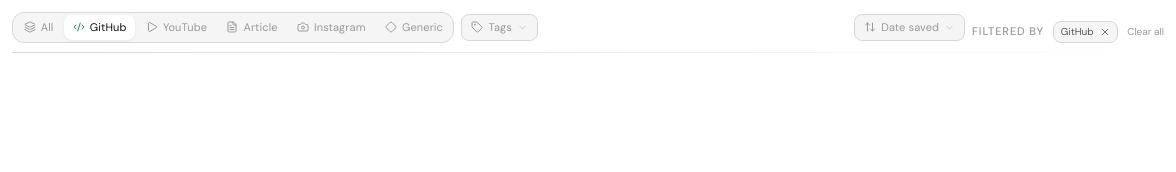
FilterBar › ActiveFilters › removes source filter via chip
What coordinates should you click on to do the following:
click the button named "Remove GitHub filter"
I would click on:
 (1105, 32)
Its box is [1099,25,1112,39].
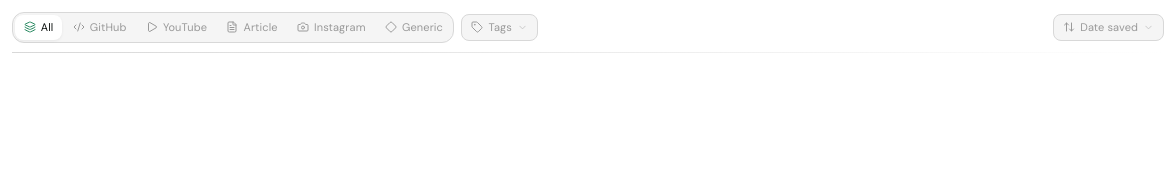
Result: the text "FILTERED BY" is gone
